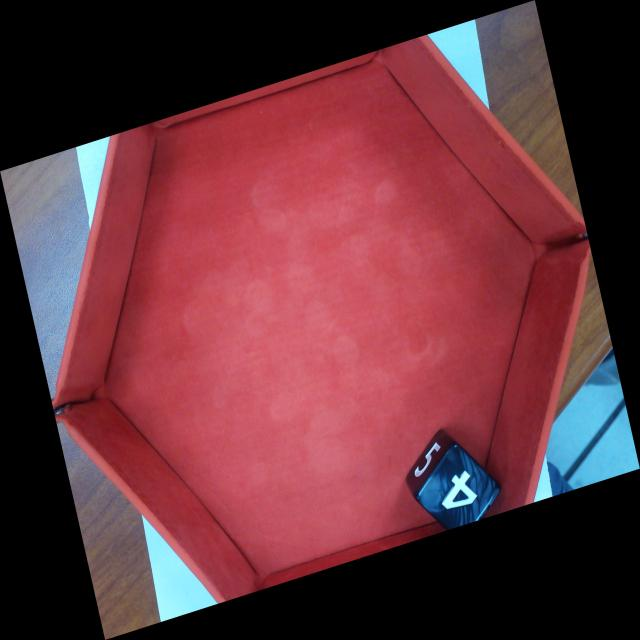dice: (412, 437, 508, 548)
